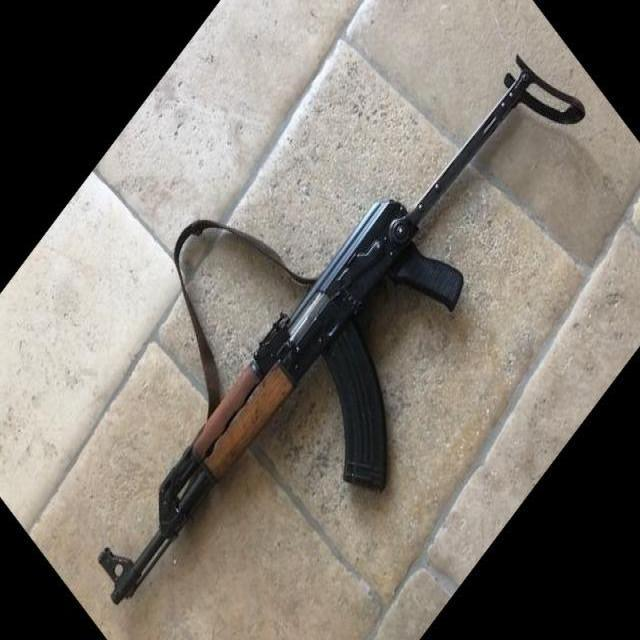weapon: (96, 51, 586, 607)
